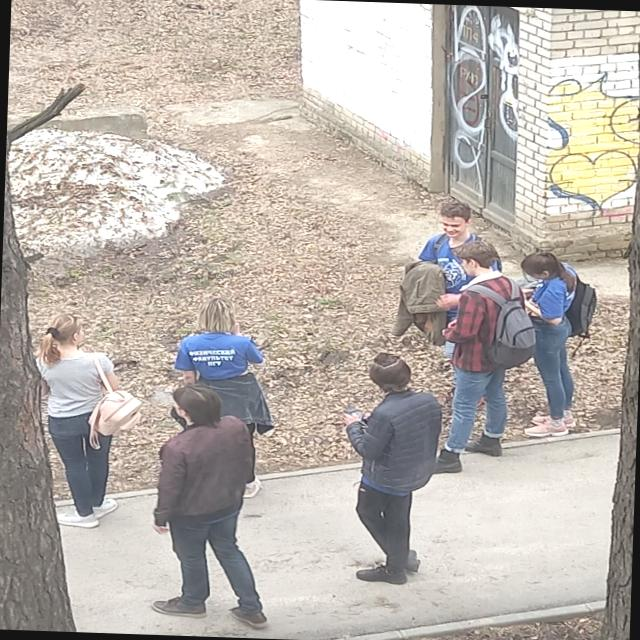person: (146, 382, 275, 630), (336, 350, 446, 586), (430, 238, 529, 472), (169, 294, 278, 500), (26, 312, 127, 530), (411, 200, 505, 404), (513, 248, 586, 436)
